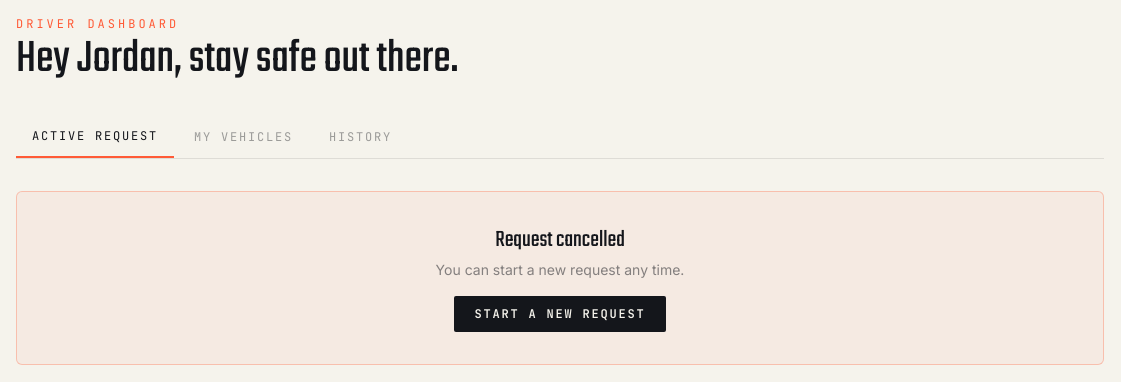
Test: CustomerDashboard — live request, chat, rating › shows a cancelled request with a way to start over
The width and height of the screenshot is (1121, 382).
Click the button "Start a new request": x=560, y=314 [454,296,666,332]
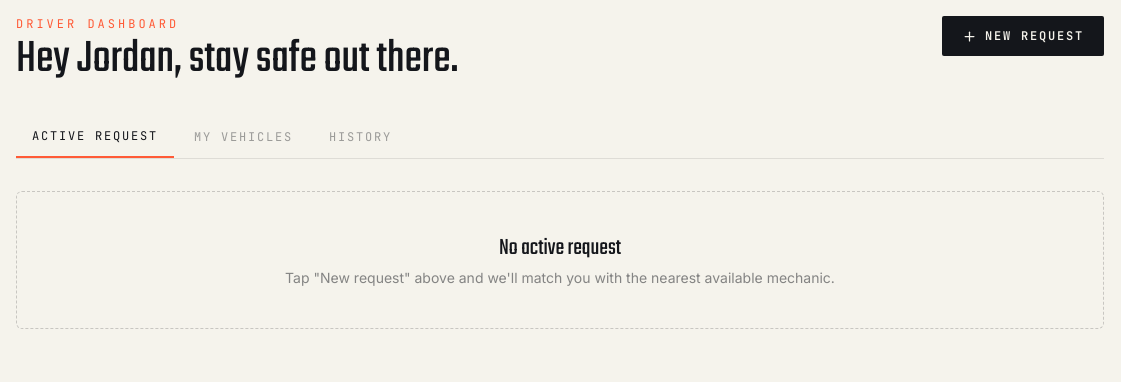
Now the text "No active request" is shown, box [499,231,621,265]
